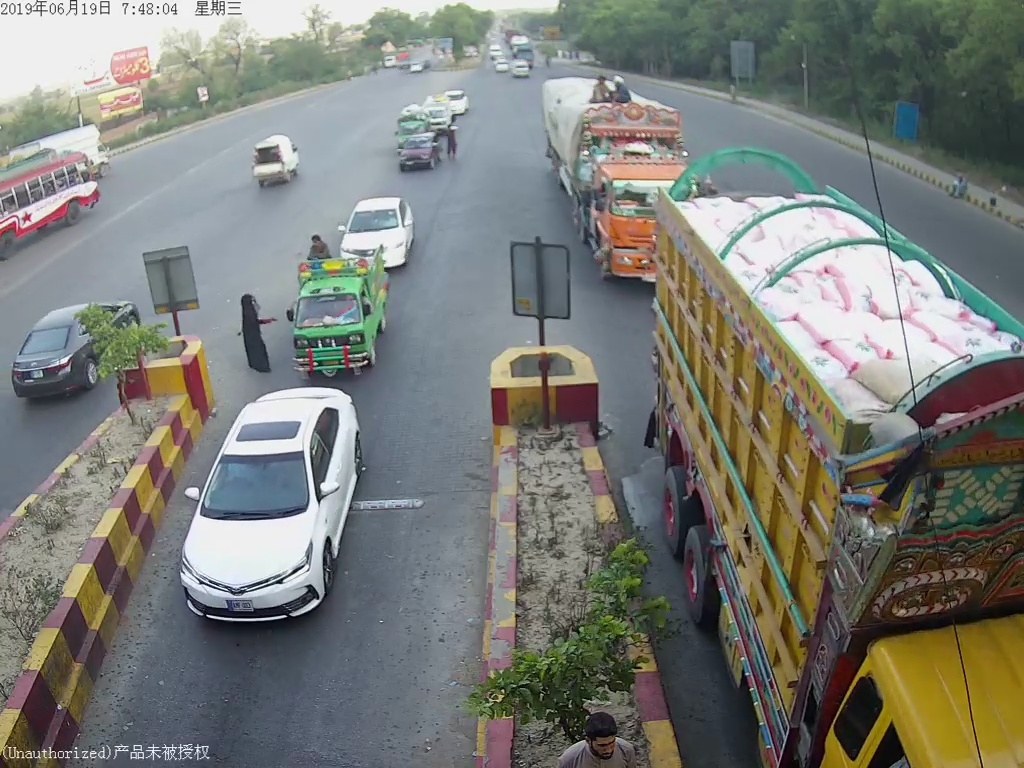Cat-1: (165, 377, 367, 629), (290, 249, 387, 377), (336, 190, 416, 273)
Cat-5: (538, 73, 683, 282)
